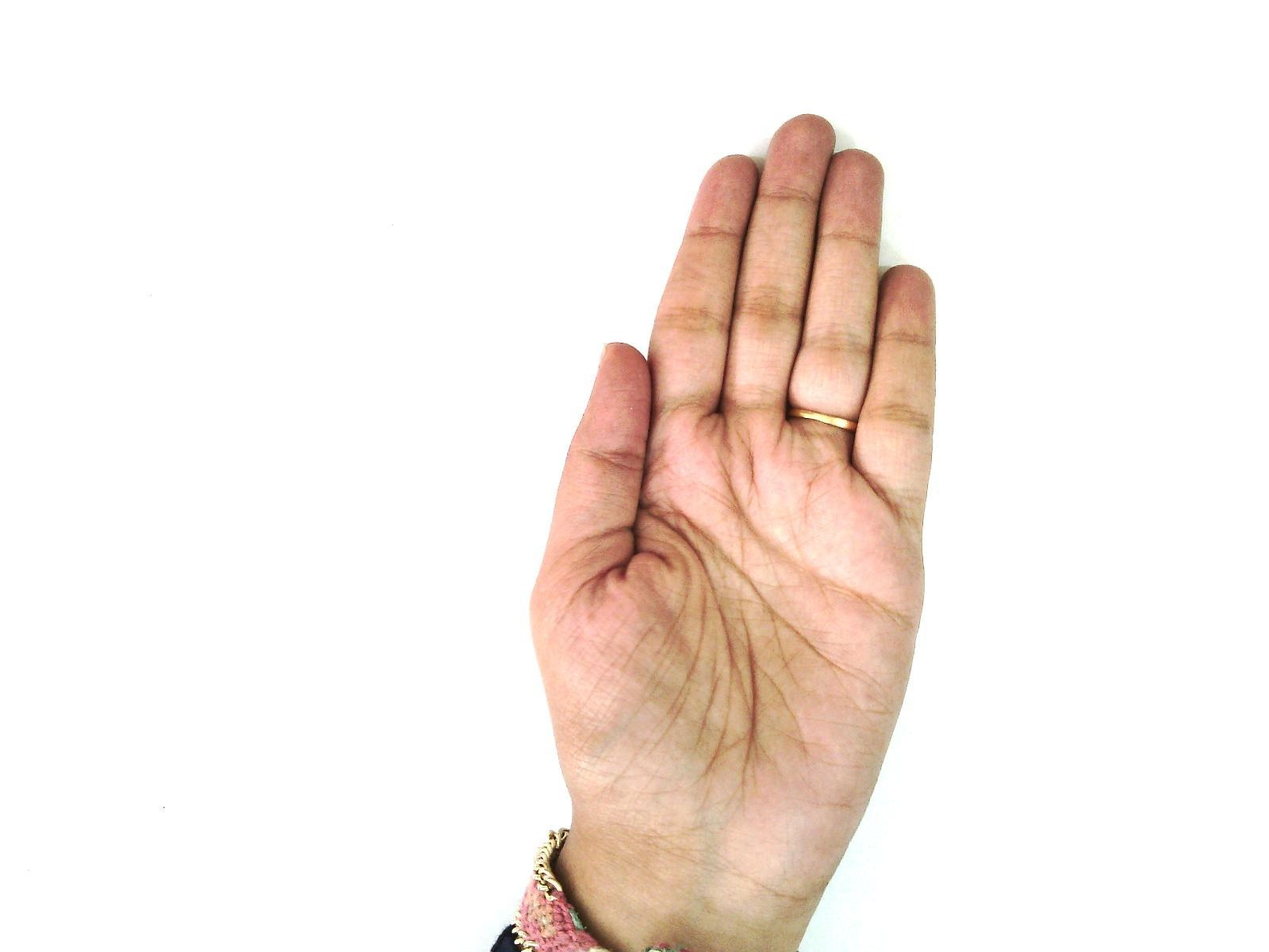open_palm: (519, 113, 939, 902)
